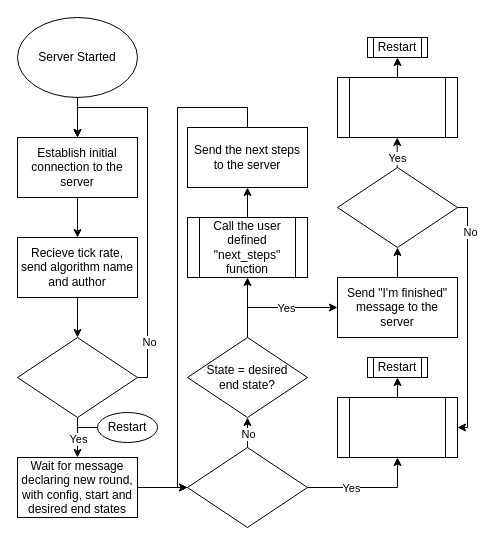
Image size: 494x545. Some labels were removed from this diagram. Here are the shapes that lost their labels. From the top down, the centre of each, then its label:
point 397,107: Call the user defined "upon_complete" function
point 397,207: Does the server agree?
point 77,377: Connection established Ok?
point 397,427: Call the user defined "upon_faliure" function
point 247,487: Server has stopped the round
